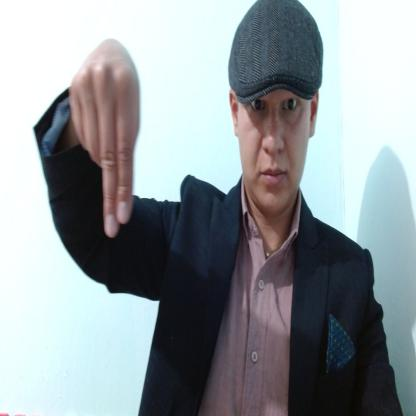N: (71, 40, 140, 236)
